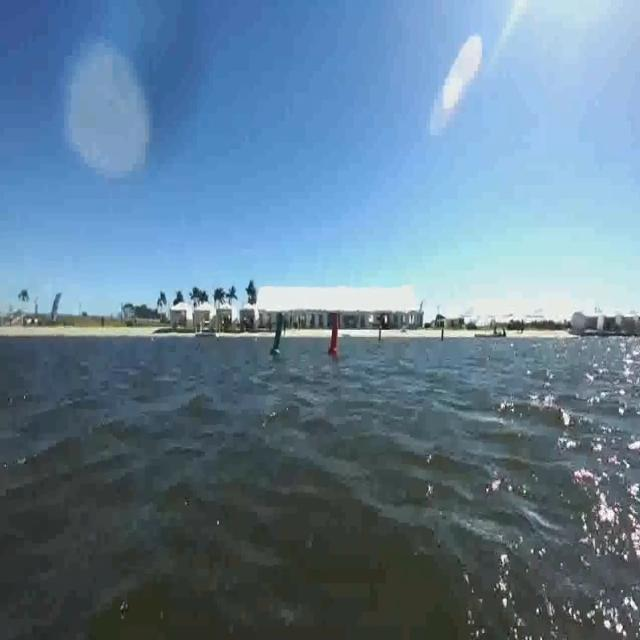green-column-buoy: (271, 313, 288, 357)
red-column-buoy: (323, 305, 346, 362)
